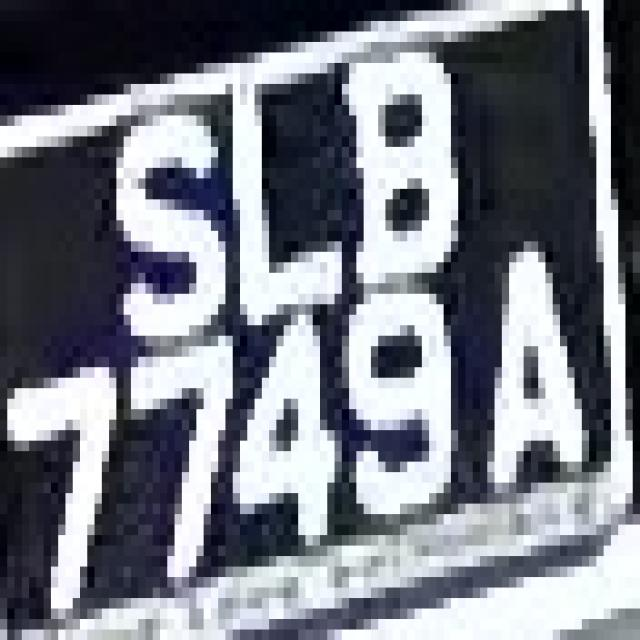4: (218, 273, 342, 556)
7: (0, 336, 138, 630), (116, 304, 240, 567)
9: (320, 252, 480, 566)
A: (451, 200, 611, 524)
B: (334, 32, 466, 284)
L: (218, 105, 342, 357)
S: (95, 52, 218, 357)
